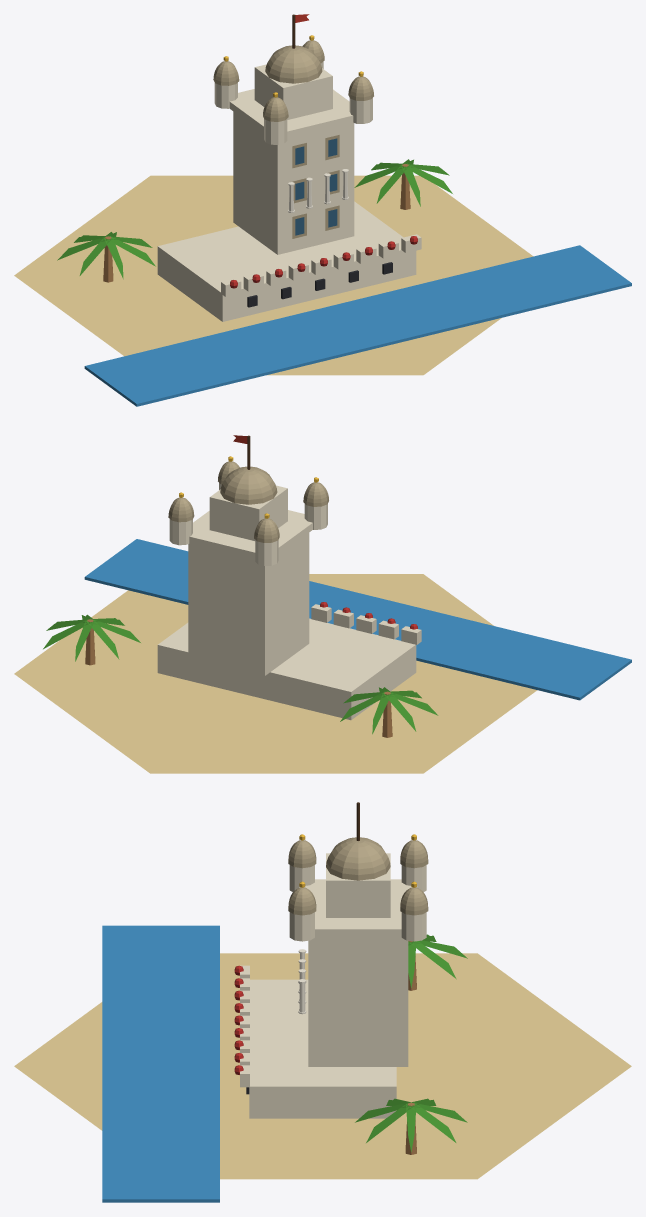
The model's file is wonder_torre_de_belem.fbx.
3 renders of one model, top to bottom at view 1: azimuth 30°, elevation 25°; view 2: azimuth 150°, elevation 25°; view 3: azimuth 270°, elevation 25°, orthographic. The views are drawn at different scales.
Visible parts, largest first — view 1: wonder_torre_de_belem; view 2: wonder_torre_de_belem; view 3: wonder_torre_de_belem.
Part boxes in pixels (x1,y1,x2,y2): wonder_torre_de_belem: (14, 14, 631, 406); wonder_torre_de_belem: (14, 435, 631, 773); wonder_torre_de_belem: (14, 802, 631, 1202).
Bounding box in the file's own units: 220 × 103 × 210.
